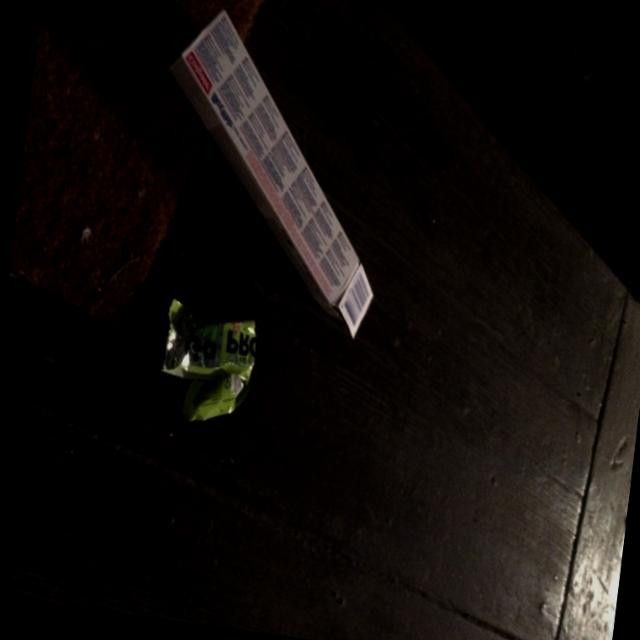Paper: (120, 0, 424, 354)
Plastic: (136, 272, 274, 446)
